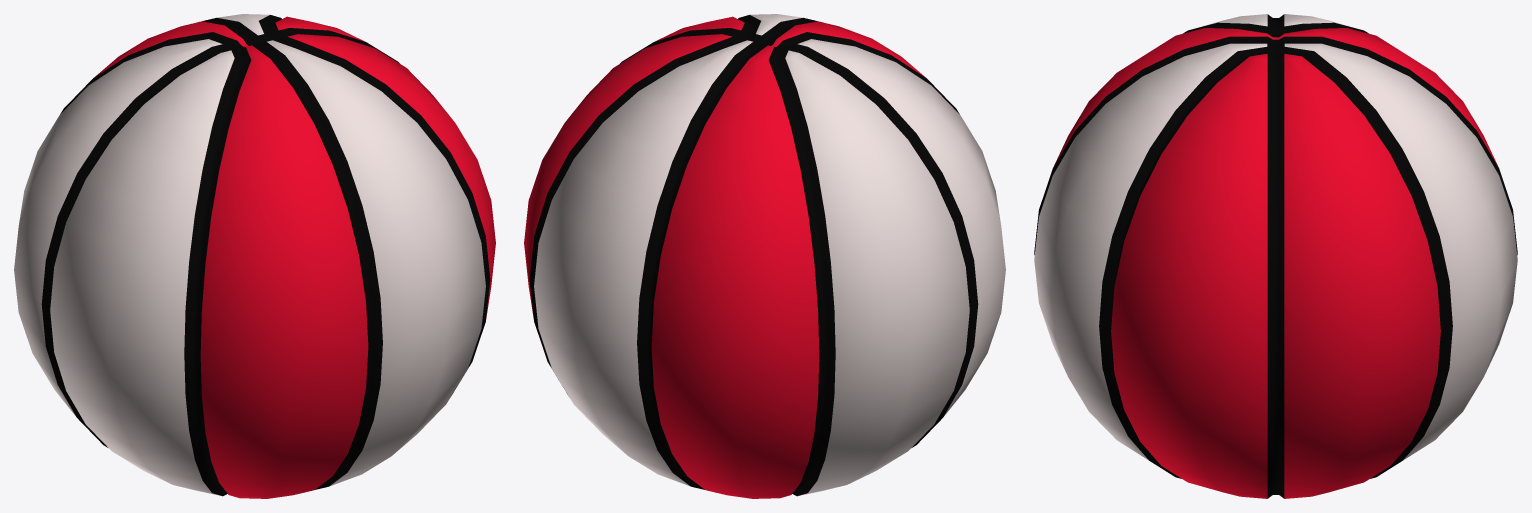
File: Basketball3.glb
The picture shows the model from 3 angles, left to right: view 1: azimuth 30°, elevation 25°; view 2: azimuth 150°, elevation 25°; view 3: azimuth 270°, elevation 25°; orthographic projection.
Parts seen in each view (by area): view 1: Sphere.002; view 2: Sphere.002; view 3: Sphere.002.
Boxes of the visible parts, x1,y1,x2,y2 form: Sphere.002: [14, 14, 495, 498]; Sphere.002: [524, 14, 1005, 498]; Sphere.002: [1034, 14, 1517, 498].
Bounding box in the file's own units: 1.99 × 1.96 × 1.99.
